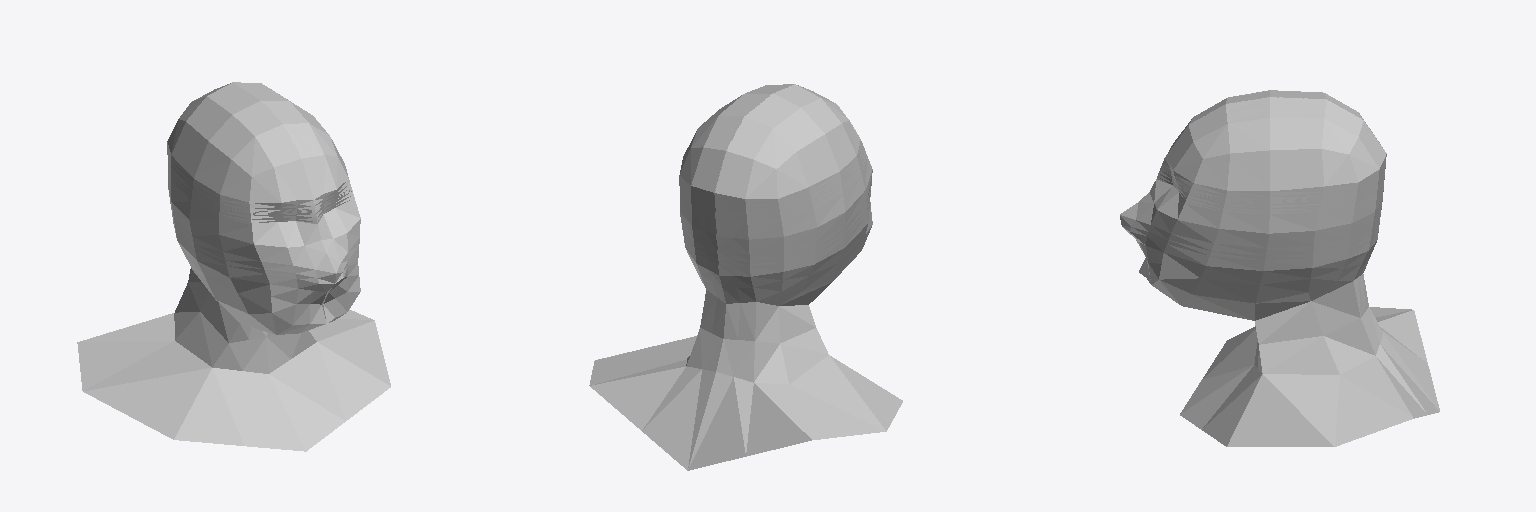
File: cabeza.obj
The picture shows the model from 3 angles: view 1: azimuth 30°, elevation 25°; view 2: azimuth 150°, elevation 25°; view 3: azimuth 270°, elevation 25°; orthographic projection.
Visible parts, largest first — view 1: Cube_Cube.001; view 2: Cube_Cube.001; view 3: Cube_Cube.001.
Part boxes in pixels (x1,y1,x2,y2): Cube_Cube.001: (77,82,390,451); Cube_Cube.001: (589,84,902,470); Cube_Cube.001: (1120,90,1439,446).
Size of the model in its own units: 2.51 by 2.61 by 2.39.